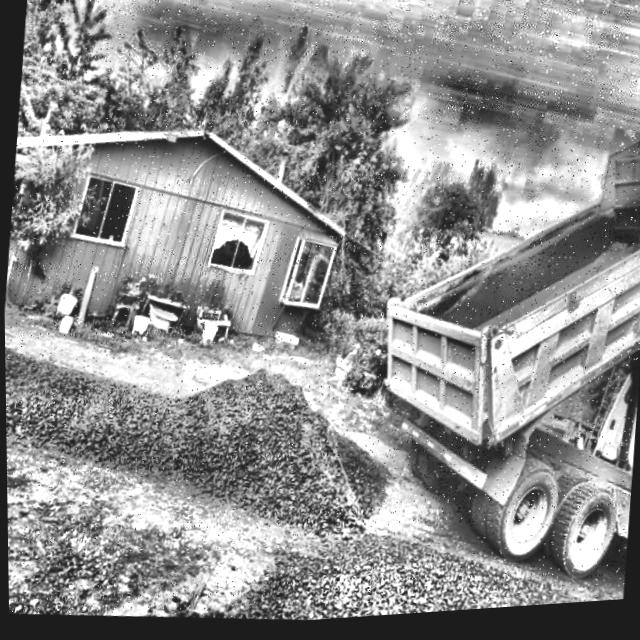dump_truck: (314, 29, 640, 624)
